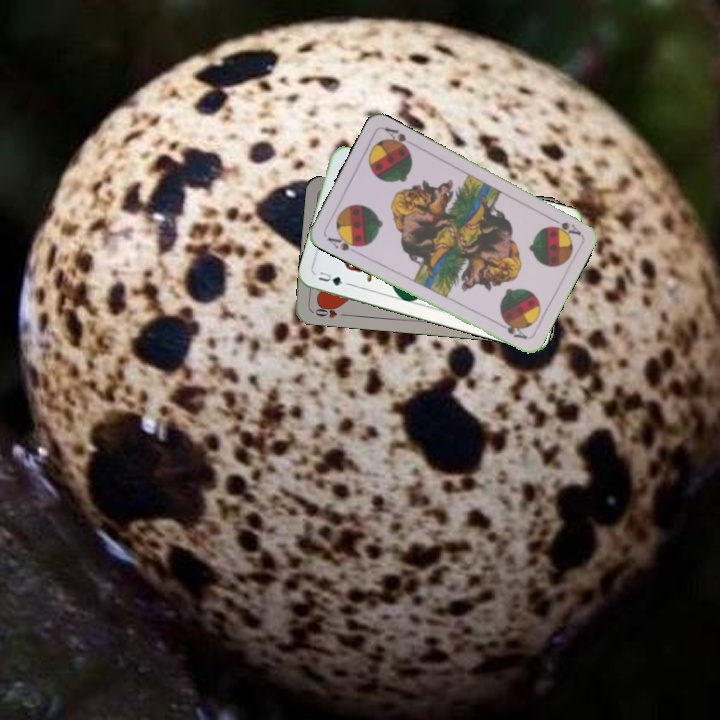GU: (314, 267, 345, 288)
HO: (309, 301, 350, 321)
SA: (545, 213, 583, 238), (323, 231, 363, 254)
